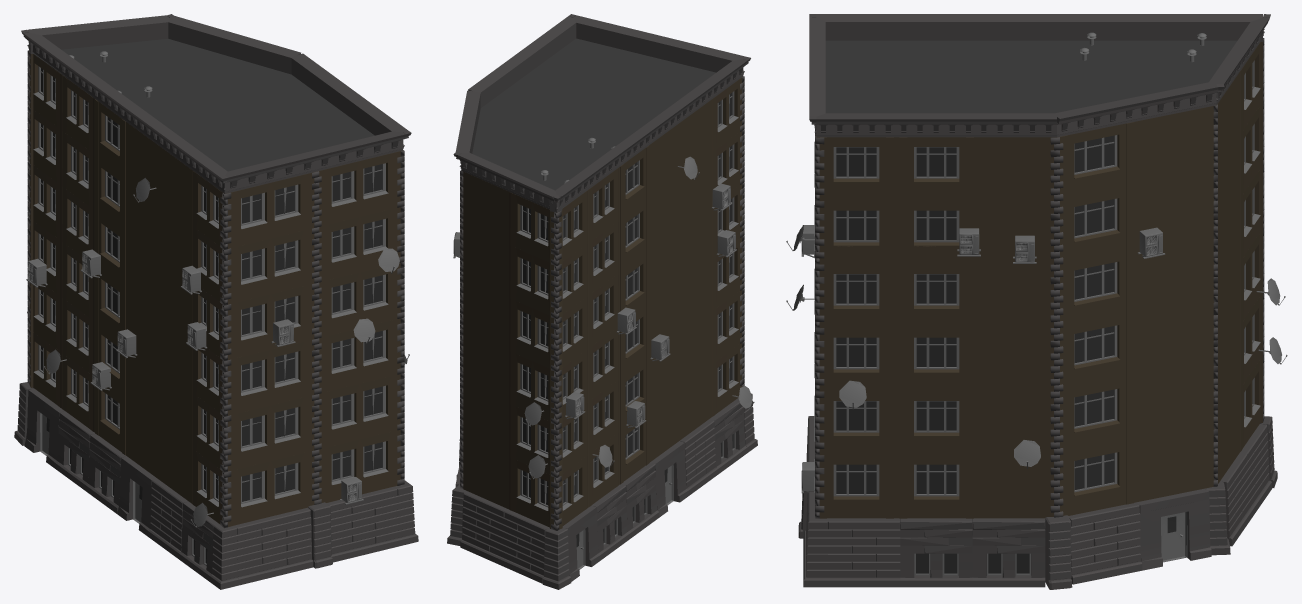
The picture shows the model from 3 angles, left to right: view 1: azimuth 30°, elevation 25°; view 2: azimuth 150°, elevation 25°; view 3: azimuth 270°, elevation 25°; orthographic projection. The views are drawn at different scales.
Visible parts, largest first — view 1: Plane.014, middle_floor_wall_02.634, middle_floor_wall_02.630, middle_floor_wall_02.631, middle_floor_wall_02.633, middle_floor_wall_02.629, ground_floor_wall_02.148, middle_floor_wall_02.628, middle_floor_wall_02.624, middle_floor_wall_02.626, middle_floor_wall_02.632, middle_floor_wall_02.625 (+68 smaller); view 2: Plane.014, ground_floor_wall_02.143, ground_floor_wall_02.144, middle_floor_wall_01.297, middle_floor_wall_01.296, middle_floor_wall_01.292, middle_floor_wall_01.293, middle_floor_wall_01.294, middle_floor_wall_01.295, middle_floor_wall_02.604, middle_floor_wall_02.603, middle_floor_wall_02.602 (+75 smaller); view 3: Plane.014, middle_floor_wall_03.210, middle_floor_wall_03.214, middle_floor_wall_03.218, middle_floor_wall_03.208, middle_floor_wall_03.212, ground_floor_wall_03.039, ground_floor_wall_03.038, ground_floor_wall_02.146, middle_floor_wall_01.287, middle_floor_wall_01.291, middle_floor_wall_01.286 (+63 smaller).
Part boxes in pixels (x1=…): Plane.014: x1=29, y1=38, x2=374, y2=171; middle_floor_wall_02.634: x1=227, y1=172, x2=314, y2=248; middle_floor_wall_02.630: x1=228, y1=395, x2=314, y2=471; middle_floor_wall_02.631: x1=228, y1=340, x2=314, y2=415; middle_floor_wall_02.633: x1=228, y1=228, x2=314, y2=304; middle_floor_wall_02.629: x1=228, y1=451, x2=314, y2=526; ground_floor_wall_02.148: x1=234, y1=507, x2=313, y2=585; middle_floor_wall_02.628: x1=317, y1=151, x2=400, y2=225; middle_floor_wall_02.624: x1=319, y1=374, x2=400, y2=448; middle_floor_wall_02.626: x1=319, y1=263, x2=400, y2=337; middle_floor_wall_02.632: x1=228, y1=284, x2=314, y2=360; middle_floor_wall_02.625: x1=319, y1=318, x2=400, y2=392; Plane.014: x1=472, y1=38, x2=715, y2=211; ground_floor_wall_02.143: x1=460, y1=491, x2=508, y2=565; ground_floor_wall_02.144: x1=501, y1=509, x2=549, y2=583; middle_floor_wall_01.297: x1=463, y1=171, x2=508, y2=244; middle_floor_wall_01.296: x1=462, y1=224, x2=508, y2=297; middle_floor_wall_01.292: x1=463, y1=436, x2=508, y2=509; middle_floor_wall_01.293: x1=462, y1=383, x2=508, y2=456; middle_floor_wall_01.294: x1=463, y1=330, x2=508, y2=403; middle_floor_wall_01.295: x1=463, y1=277, x2=508, y2=350; middle_floor_wall_02.604: x1=509, y1=192, x2=562, y2=264; middle_floor_wall_02.603: x1=509, y1=245, x2=562, y2=317; middle_floor_wall_02.602: x1=509, y1=298, x2=562, y2=370; Plane.014: x1=825, y1=40, x2=1237, y2=113; middle_floor_wall_03.210: x1=896, y1=391, x2=976, y2=455; middle_floor_wall_03.214: x1=896, y1=264, x2=976, y2=328; middle_floor_wall_03.218: x1=896, y1=137, x2=976, y2=201; middle_floor_wall_03.208: x1=896, y1=455, x2=976, y2=518; middle_floor_wall_03.212: x1=896, y1=328, x2=976, y2=391; ground_floor_wall_03.039: x1=972, y1=518, x2=1045, y2=587; ground_floor_wall_03.038: x1=900, y1=518, x2=972, y2=587; ground_floor_wall_02.146: x1=828, y1=518, x2=900, y2=587; middle_floor_wall_01.287: x1=1136, y1=360, x2=1214, y2=438; middle_floor_wall_01.291: x1=1136, y1=106, x2=1215, y2=184; middle_floor_wall_01.286: x1=1136, y1=423, x2=1215, y2=501.
Bounding box in the file's own units: 1275 × 2221 × 2167.
